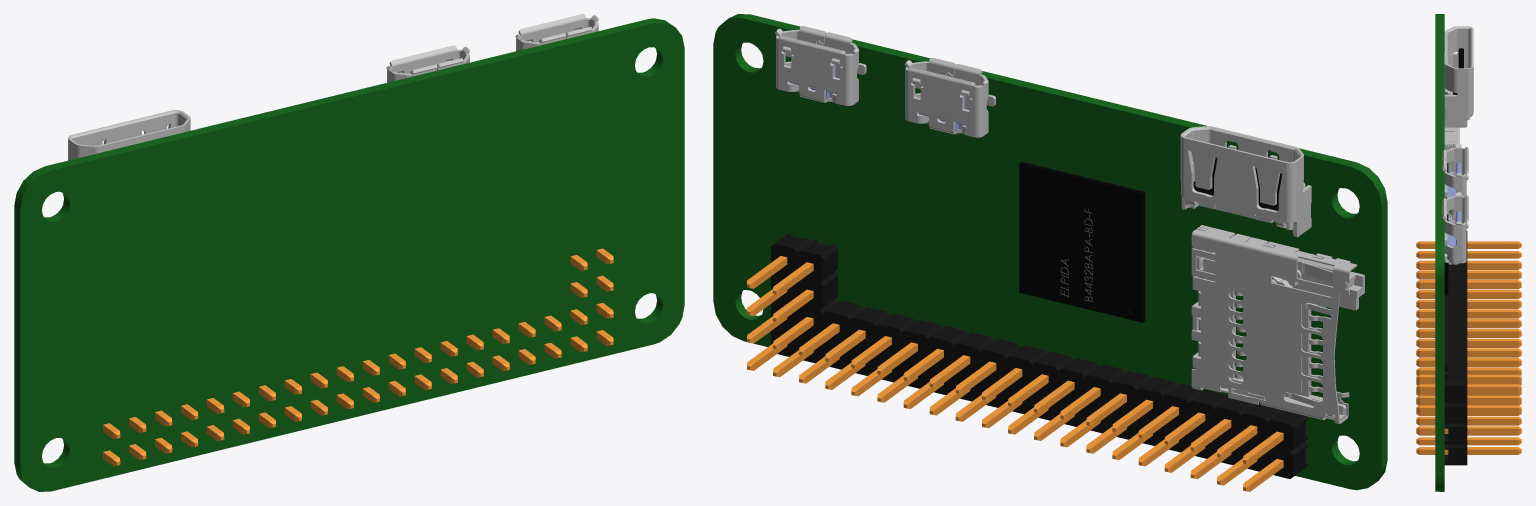
File: raspberry_pi_zero.fbx
The picture shows the model from 3 angles, left to right: view 1: azimuth 30°, elevation 25°; view 2: azimuth 150°, elevation 25°; view 3: azimuth 270°, elevation 25°; orthographic projection. The views are drawn at different scales.
Parts seen in each view (by area): view 1: FACE_ig_TrimmedParametricSurface1009, FACE_ig_TrimmedParametricSurface15793, FACE_ig_TrimmedParametricSurface45311, FACE_ig_TrimmedParametricSurface125085, FACE_ig_TrimmedParametricSurface107663; view 2: FACE_ig_TrimmedParametricSurface1009, FACE_ig_TrimmedParametricSurface6521, FACE_ig_TrimmedParametricSurface75015, FACE_ig_TrimmedParametricSurface15793, FACE_ig_TrimmedParametricSurface132643, FACE_ig_TrimmedParametricSurface45311, FACE_ig_TrimmedParametricSurface125085, FACE_ig_TrimmedParametricSurface107291, FACE_ig_TrimmedParametricSurface107663; view 3: FACE_ig_TrimmedParametricSurface15793, FACE_ig_TrimmedParametricSurface1009, FACE_ig_TrimmedParametricSurface6521, FACE_ig_TrimmedParametricSurface125085, FACE_ig_TrimmedParametricSurface107663, FACE_ig_TrimmedParametricSurface45311, FACE_ig_TrimmedParametricSurface107291, FACE_ig_TrimmedParametricSurface75015, FACE_ig_TrimmedParametricSurface73387 (×2), FACE_ig_TrimmedParametricSurface132643, FACE_ig_TrimmedParametricSurface115649.
Part boxes in pixels (x1=…): FACE_ig_TrimmedParametricSurface1009: x1=14, y1=18, x2=684, y2=491; FACE_ig_TrimmedParametricSurface15793: x1=103, y1=303, x2=613, y2=466; FACE_ig_TrimmedParametricSurface45311: x1=386, y1=14, x2=598, y2=82; FACE_ig_TrimmedParametricSurface125085: x1=68, y1=110, x2=190, y2=160; FACE_ig_TrimmedParametricSurface107663: x1=570, y1=248, x2=613, y2=297; FACE_ig_TrimmedParametricSurface1009: x1=713, y1=14, x2=1387, y2=490; FACE_ig_TrimmedParametricSurface6521: x1=771, y1=299, x2=1307, y2=478; FACE_ig_TrimmedParametricSurface75015: x1=1191, y1=225, x2=1364, y2=423; FACE_ig_TrimmedParametricSurface15793: x1=747, y1=316, x2=1283, y2=491; FACE_ig_TrimmedParametricSurface132643: x1=1019, y1=162, x2=1145, y2=322; FACE_ig_TrimmedParametricSurface45311: x1=775, y1=26, x2=995, y2=137; FACE_ig_TrimmedParametricSurface125085: x1=1180, y1=126, x2=1311, y2=237; FACE_ig_TrimmedParametricSurface107291: x1=771, y1=233, x2=837, y2=309; FACE_ig_TrimmedParametricSurface107663: x1=747, y1=256, x2=813, y2=322; FACE_ig_TrimmedParametricSurface15793: x1=1416, y1=241, x2=1521, y2=454; FACE_ig_TrimmedParametricSurface1009: x1=1435, y1=14, x2=1444, y2=491; FACE_ig_TrimmedParametricSurface6521: x1=1444, y1=231, x2=1467, y2=465; FACE_ig_TrimmedParametricSurface125085: x1=1444, y1=26, x2=1473, y2=127; FACE_ig_TrimmedParametricSurface107663: x1=1416, y1=374, x2=1521, y2=413; FACE_ig_TrimmedParametricSurface45311: x1=1442, y1=144, x2=1468, y2=263; FACE_ig_TrimmedParametricSurface107291: x1=1444, y1=364, x2=1467, y2=423; FACE_ig_TrimmedParametricSurface75015: x1=1444, y1=127, x2=1459, y2=264; FACE_ig_TrimmedParametricSurface73387 (×2): x1=1447, y1=162, x2=1461, y2=259; FACE_ig_TrimmedParametricSurface132643: x1=1444, y1=163, x2=1448, y2=295; FACE_ig_TrimmedParametricSurface115649: x1=1448, y1=48, x2=1463, y2=94.
Bounding box in the file's own units: 65 × 11.6 × 30.63.
